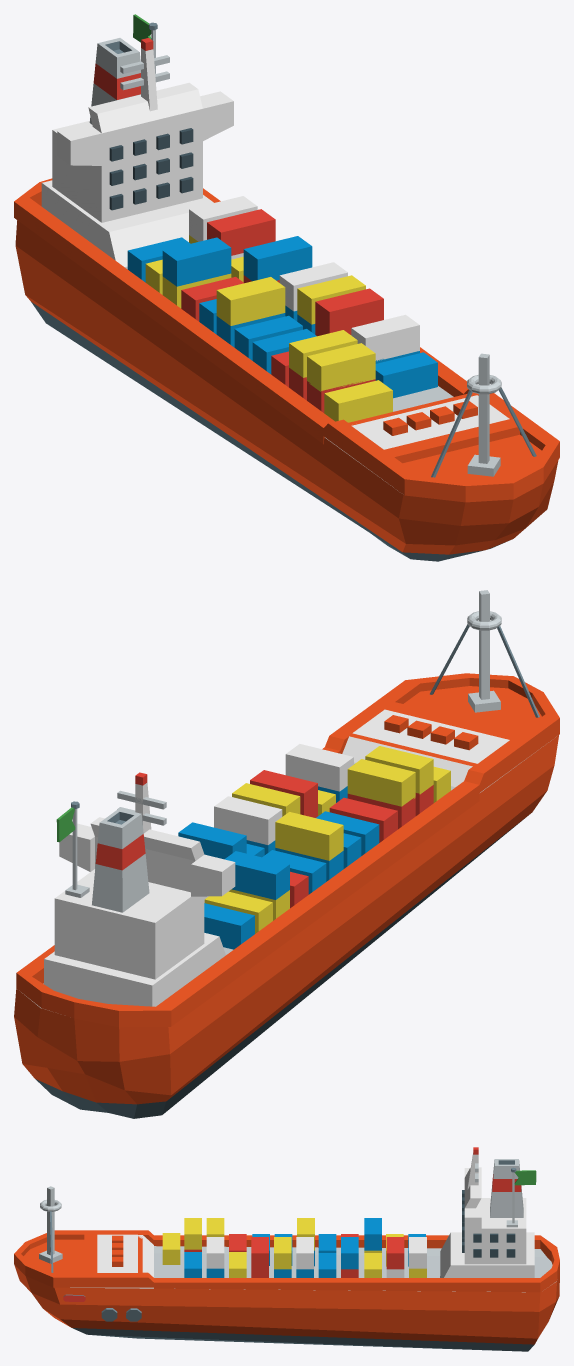
The model's file is ship5.glb.
3 views of the same model, one above another, from view 1: azimuth 30°, elevation 25°; view 2: azimuth 150°, elevation 25°; view 3: azimuth 270°, elevation 25° (orthographic). The views are drawn at different scales.
Parts seen in each view (by area): view 1: 2585744758096_0, 2585744754448_0, 2585744769040_0, 2551296631200_0, 2551296635152_0, 2585744758096_2, 2585744768736_0, 2551233697200_0, group_1881423126.87, group_645928749.79, group_868781494.125, 2585744754448_1 (+22 smaller); view 2: 2585744758096_0, 2551296631200_0, 2585744754448_0, 2585744769040_0, 2551296635152_0, 2585744758096_2, 2585744769344_1, 2585744754448_1, group_1881423126.87, group_1701587960.121, group_2032867843.103, group_2133724846.117 (+20 smaller); view 3: 2585744758096_0, 2585744761440_0, 2585744754448_0, 2585744758096_2, 2585744758096_1, 2551296631200_0, 2551296635152_0, 2585744769344_1, 2585744754448_1, 2585744769040_0, group_122146175.73, group_2133724846.117 (+24 smaller).
Boxes of the visible parts, x1=… form: 2585744758096_0: x1=15, y1=220, x2=558, y2=554; 2585744754448_0: x1=332, y1=392, x2=559, y2=502; 2585744769040_0: x1=14, y1=197, x2=334, y2=444; 2551296631200_0: x1=52, y1=120, x2=202, y2=222; 2551296635152_0: x1=41, y1=180, x2=213, y2=267; 2585744758096_2: x1=31, y1=302, x2=505, y2=561; 2585744768736_0: x1=88, y1=82, x2=202, y2=133; 2551233697200_0: x1=101, y1=109, x2=202, y2=165; group_1881423126.87: x1=216, y1=277, x2=285, y2=325; group_645928749.79: x1=162, y1=237, x2=231, y2=286; group_868781494.125: x1=307, y1=343, x2=375, y2=391; 2585744754448_1: x1=351, y1=395, x2=509, y2=449; 2585744758096_0: x1=14, y1=735, x2=558, y2=1104; 2551296631200_0: x1=54, y1=869, x2=204, y2=979; 2585744754448_0: x1=334, y1=673, x2=559, y2=785; 2585744769040_0: x1=156, y1=781, x2=479, y2=1026; 2551296635152_0: x1=44, y1=933, x2=225, y2=1006; 2585744758096_2: x1=35, y1=815, x2=528, y2=1118; 2585744769344_1: x1=92, y1=808, x2=149, y2=912; 2585744754448_1: x1=352, y1=709, x2=509, y2=763; group_1881423126.87: x1=275, y1=812, x2=343, y2=860; group_1701587960.121: x1=347, y1=759, x2=415, y2=806; group_2032867843.103: x1=214, y1=796, x2=282, y2=844; group_2133724846.117: x1=285, y1=744, x2=353, y2=791; 2585744758096_0: x1=14, y1=1265, x2=559, y2=1344; 2585744761440_0: x1=154, y1=1278, x2=540, y2=1292; 2585744754448_0: x1=14, y1=1230, x2=142, y2=1287; 2585744758096_2: x1=72, y1=1328, x2=534, y2=1351; 2585744758096_1: x1=70, y1=1246, x2=556, y2=1292; 2551296631200_0: x1=464, y1=1198, x2=526, y2=1264; 2551296635152_0: x1=440, y1=1232, x2=534, y2=1277; 2585744769344_1: x1=490, y1=1159, x2=523, y2=1217; 2585744754448_1: x1=97, y1=1234, x2=137, y2=1272; 2585744769040_0: x1=154, y1=1235, x2=540, y2=1248; group_122146175.73: x1=386, y1=1237, x2=404, y2=1269; group_2133724846.117: x1=206, y1=1237, x2=224, y2=1268.
Bounding box in the file's own units: 8.27 × 15.01 × 38.39.
